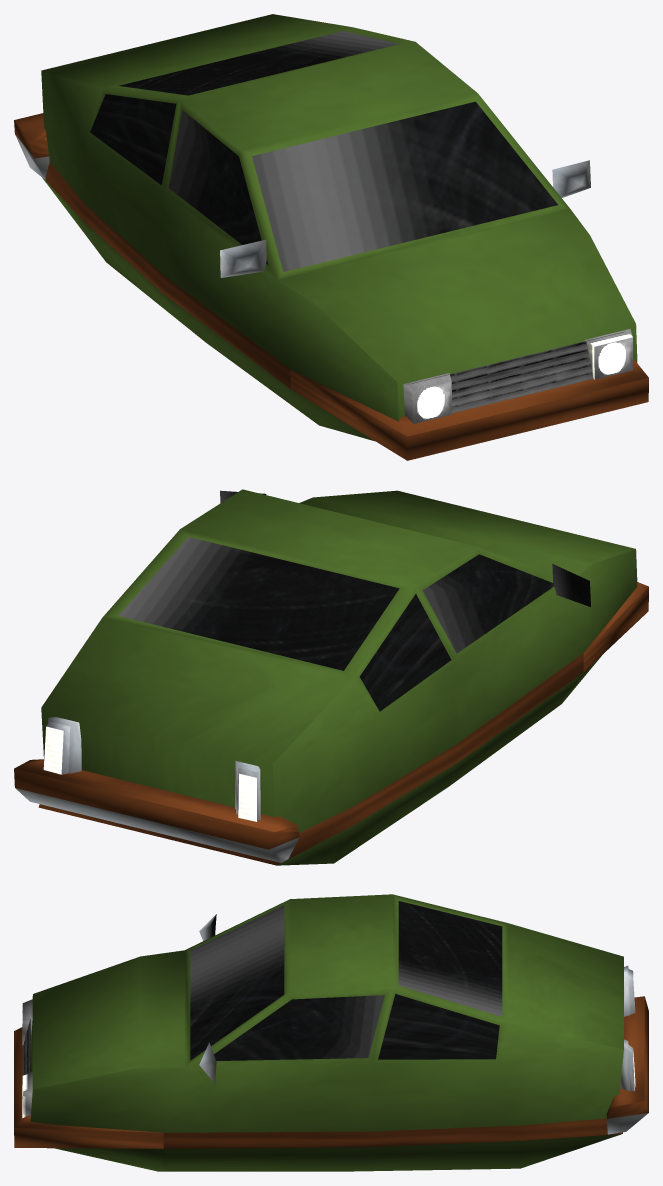
Rendered from EnemyCar_5.fbx.
3 renders of one model, top to bottom at view 1: azimuth 30°, elevation 25°; view 2: azimuth 150°, elevation 25°; view 3: azimuth 270°, elevation 25°, orthographic. The views are drawn at different scales.
Parts seen in each view (by area): view 1: StationWagon.004; view 2: StationWagon.004; view 3: StationWagon.004.
Part boxes in pixels (left/top/right/bottom): StationWagon.004: left=14, top=14, right=648, bottom=460; StationWagon.004: left=14, top=489, right=648, bottom=865; StationWagon.004: left=14, top=894, right=648, bottom=1171.
Bounding box in the file's own units: 75.86 × 43.24 × 137.
